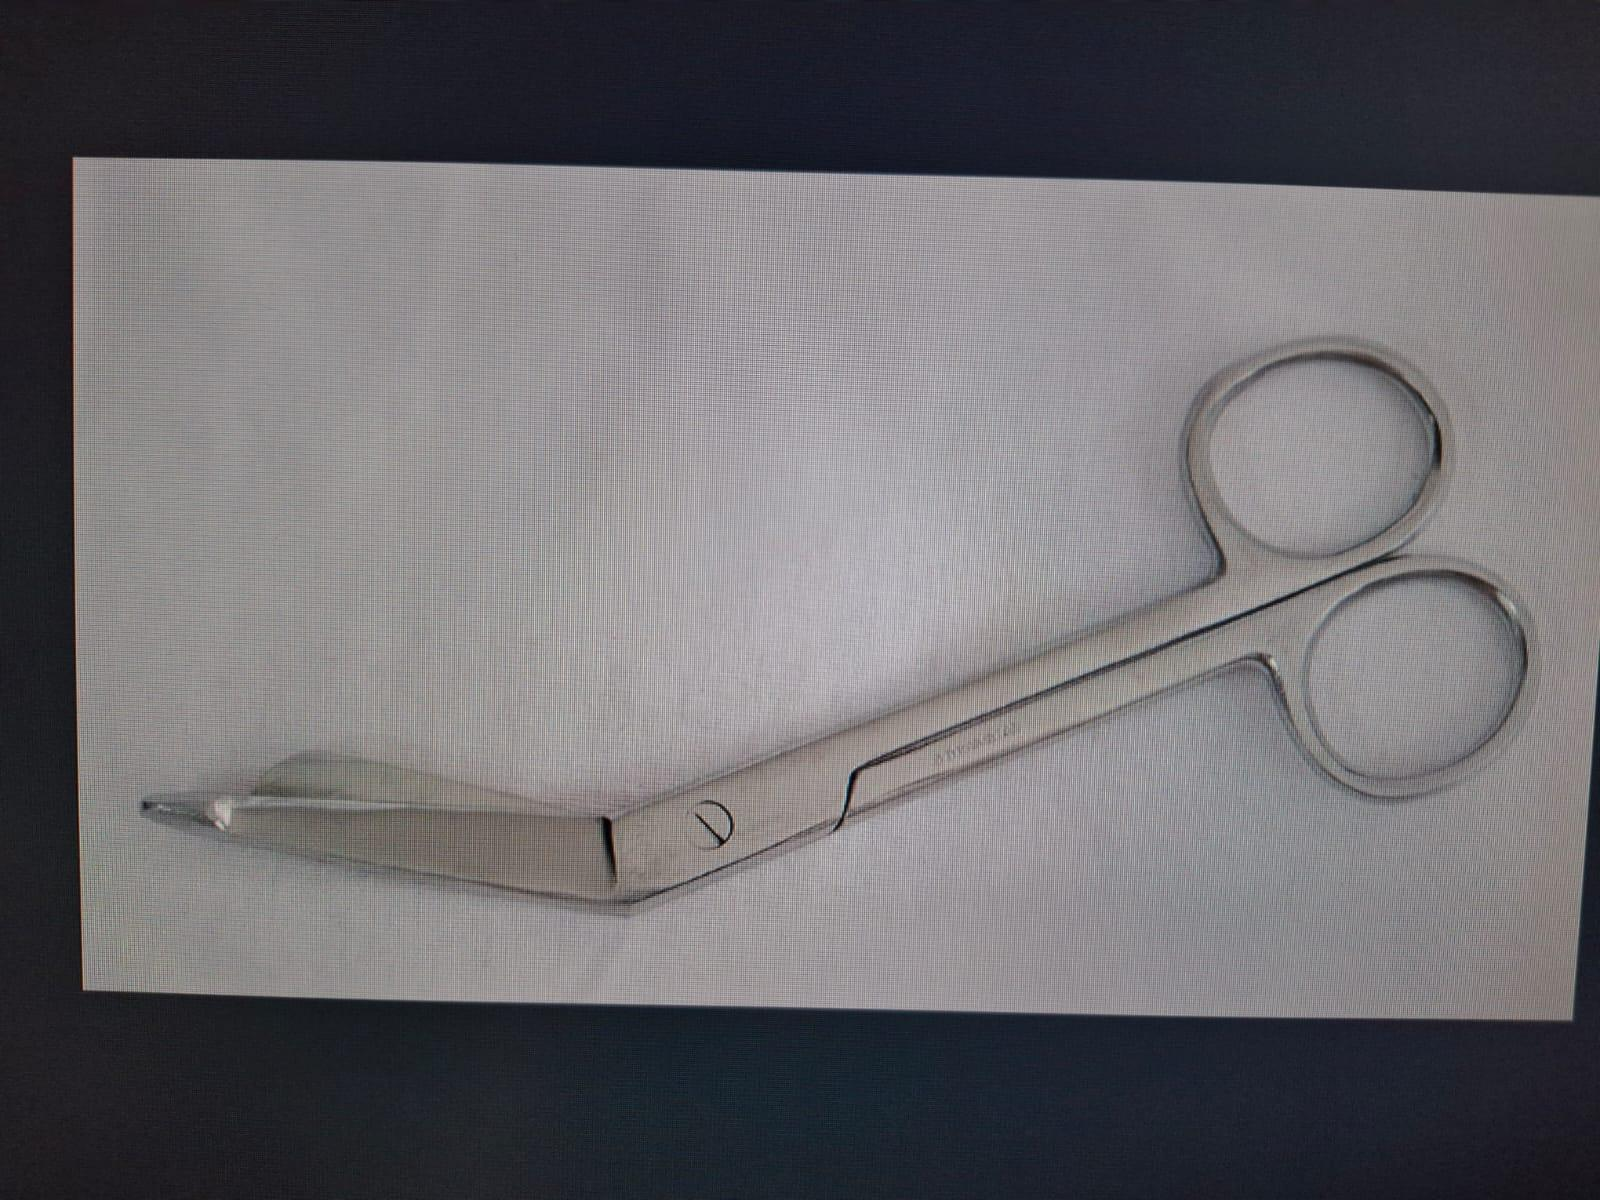Bandage Sciccors: (134, 316, 1556, 968)
